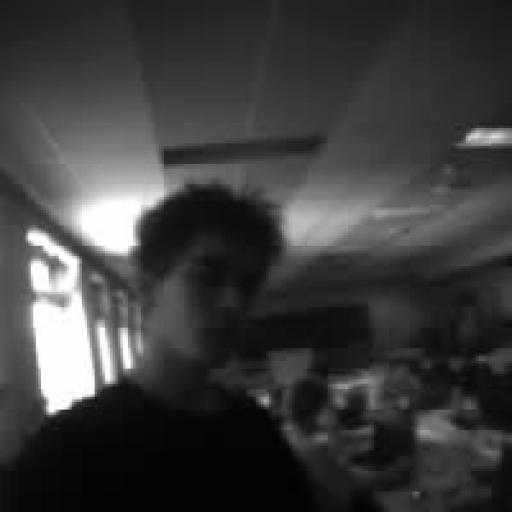human: (8, 182, 314, 511), (402, 363, 512, 510), (285, 374, 378, 511), (354, 361, 419, 491)
